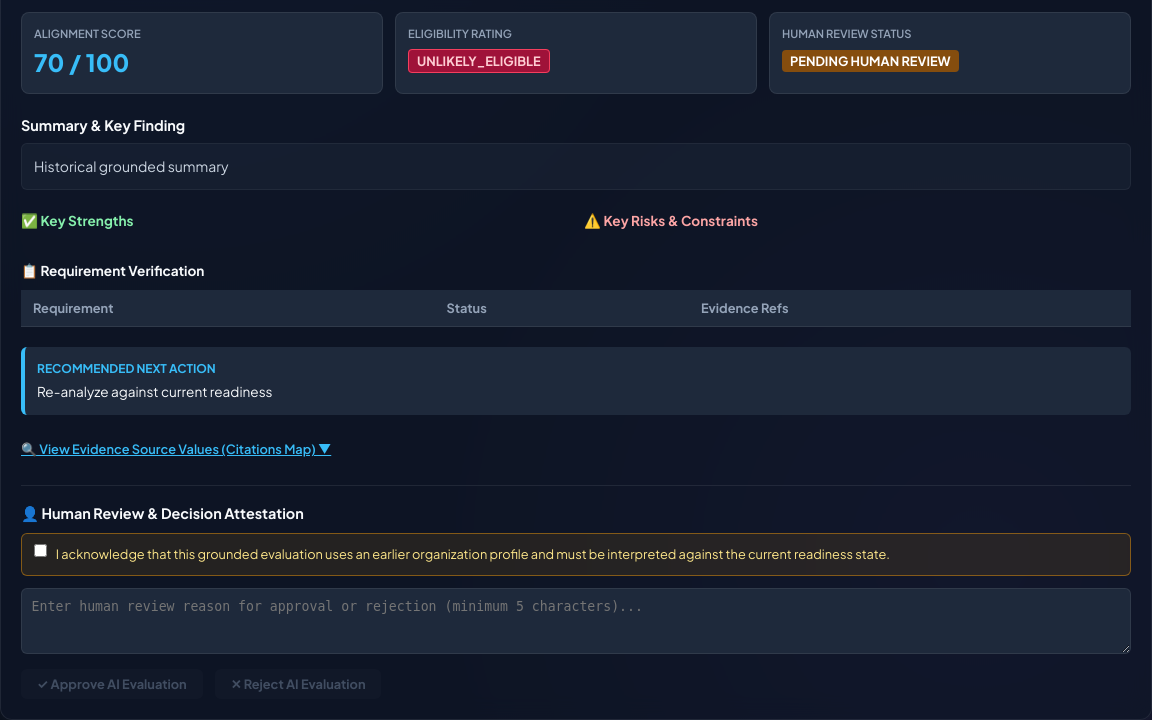
Test: AiEvaluationPanel Component Attribution Suite › warns and gates review decisions when a grounded evaluation uses stale organization readiness
(page scrolled)
Expected: the button "✓ Approve AI Evaluation" is disabled, x1=21 y1=669 x2=203 y2=699
Expected: the button "✕ Reject AI Evaluation" is disabled, x1=215 y1=669 x2=381 y2=699
Click the checkbox labelled "I acknowledge that this grounded evaluation" at (40, 551), box x1=34 y1=544 x2=47 y2=557
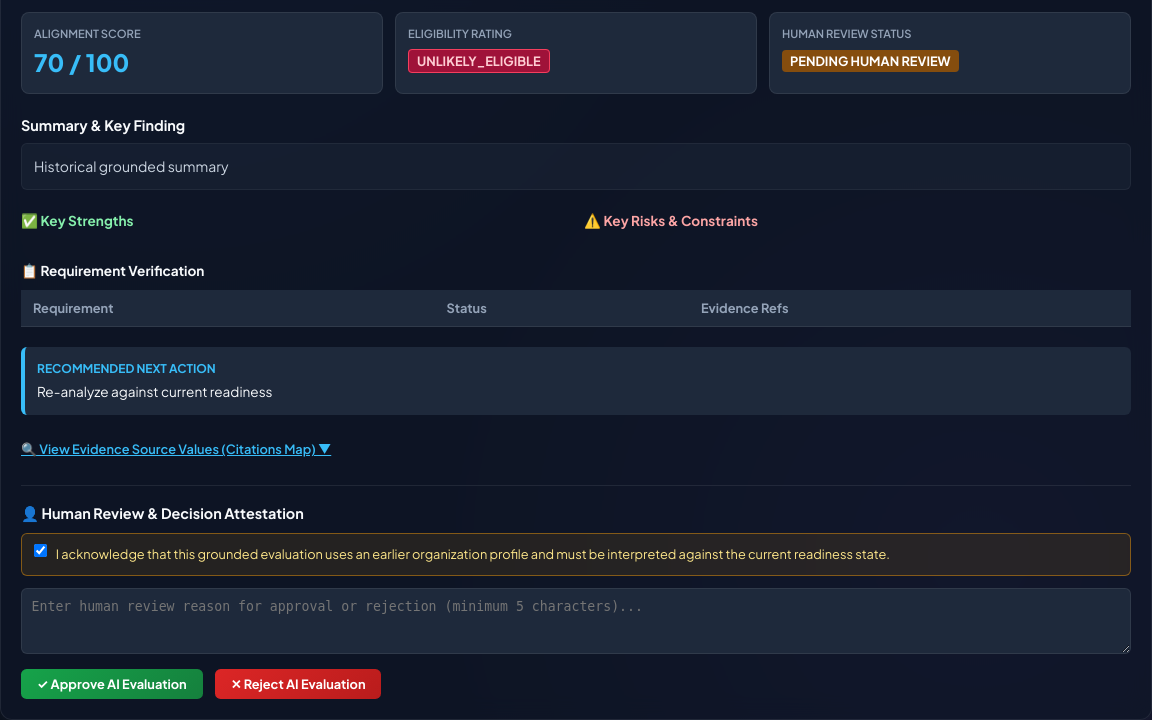
Expected: the button "✓ Approve AI Evaluation" is enabled, x1=21 y1=669 x2=203 y2=699
Expected: the button "✕ Reject AI Evaluation" is enabled, x1=215 y1=669 x2=381 y2=699
